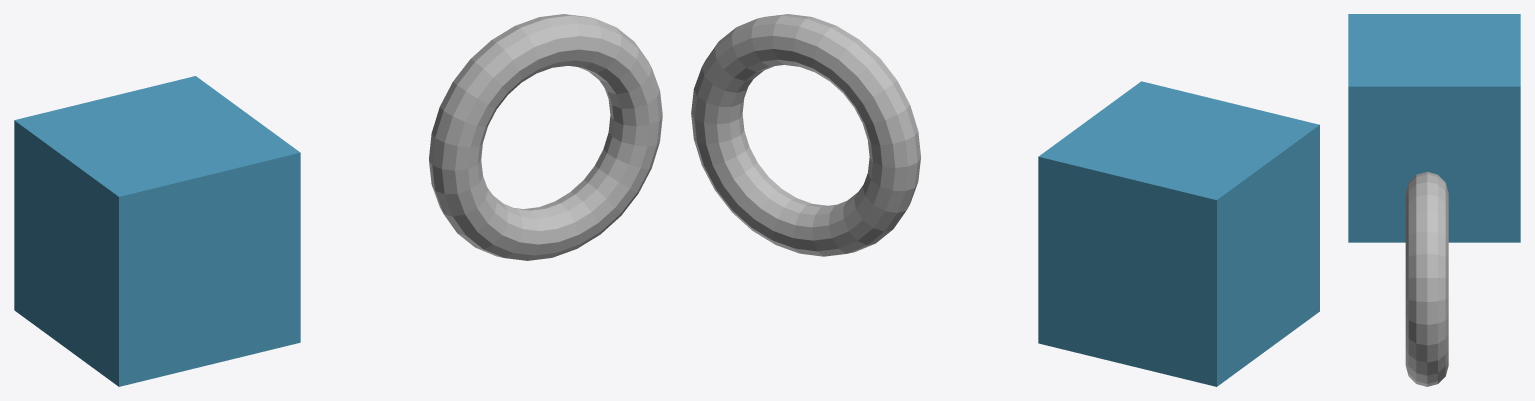
3 renders of one model, left to right at view 1: azimuth 30°, elevation 25°; view 2: azimuth 150°, elevation 25°; view 3: azimuth 270°, elevation 25°, orthographic. The views are drawn at different scales.
Parts seen in each view (by area): view 1: Cube, Torus; view 2: Cube, Torus; view 3: Cube, Torus.
Boxes of the visible parts, bbox=[...] form: Cube: bbox=[14, 76, 300, 386]; Torus: bbox=[429, 14, 662, 260]; Cube: bbox=[1038, 81, 1319, 386]; Torus: bbox=[691, 14, 920, 256]; Cube: bbox=[1348, 14, 1520, 242]; Torus: bbox=[1405, 172, 1448, 386].
Bounding box in the file's own units: 6.48 × 2 × 2.5.
